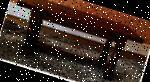Mesa: (2, 0, 148, 81)
